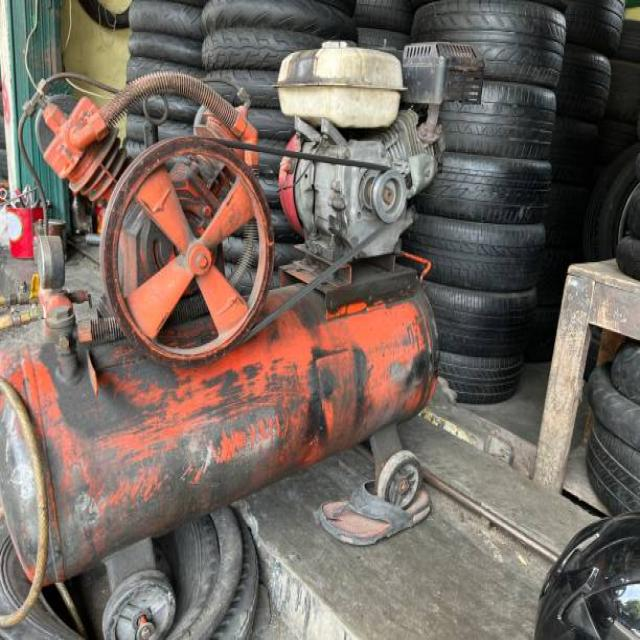compressor: (0, 25, 457, 573)
corrosion detected: (97, 126, 276, 366), (273, 38, 440, 273), (273, 38, 408, 132)
